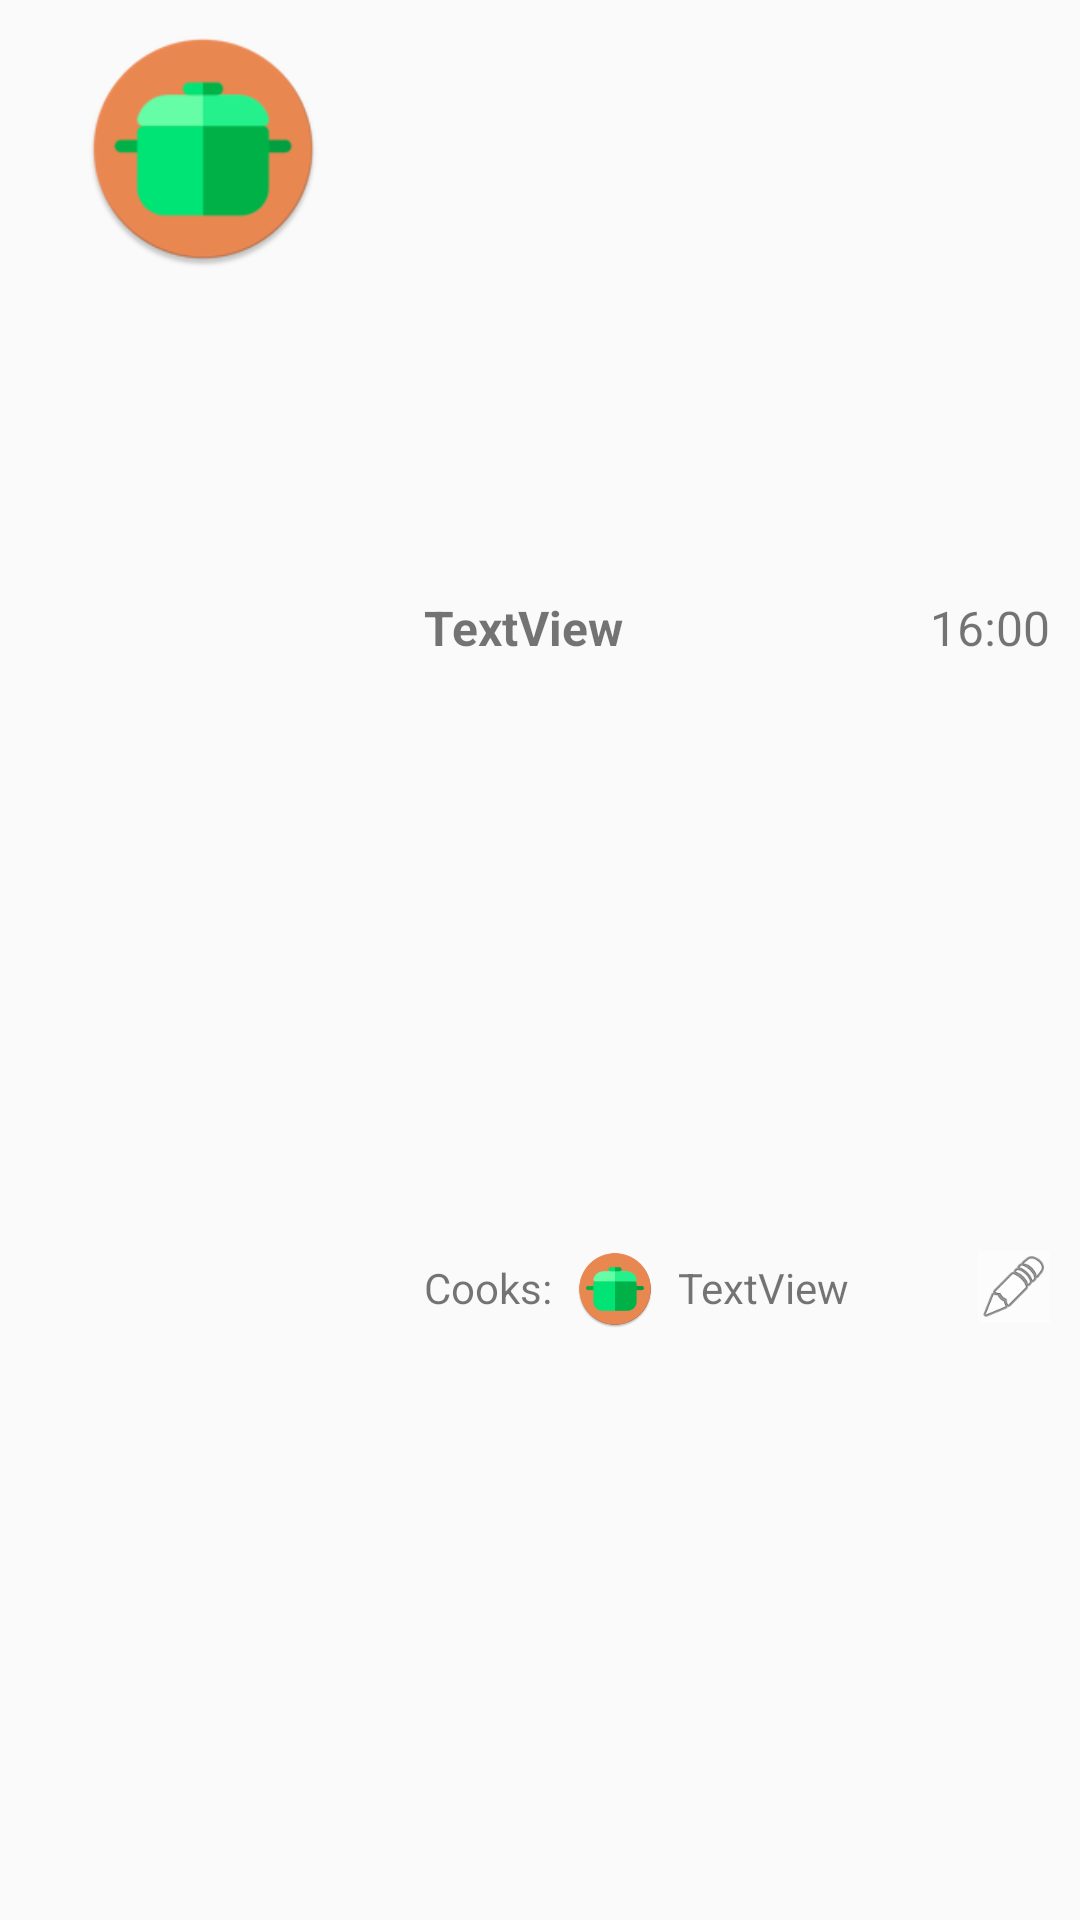

Named icons in this screenshot (1080 × 1920) and their centers, (x=x, y=y):
edit: (x=1013, y=1286)
